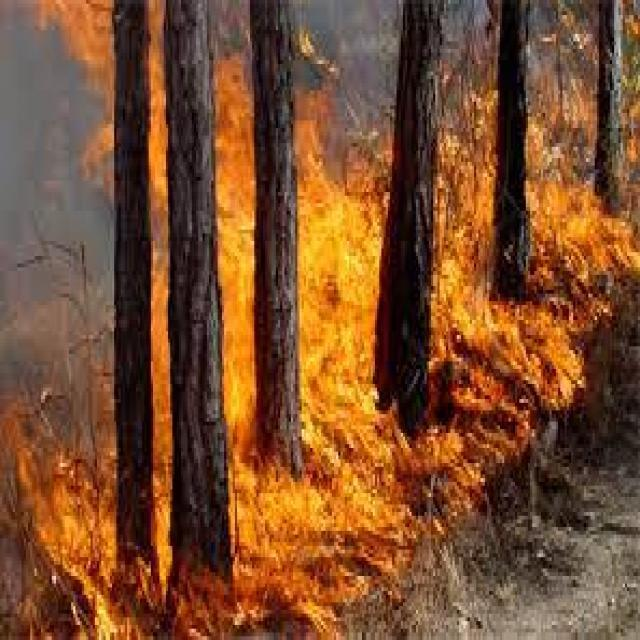Fire: (0, 0, 640, 640)
Smoke: (0, 3, 114, 294)
